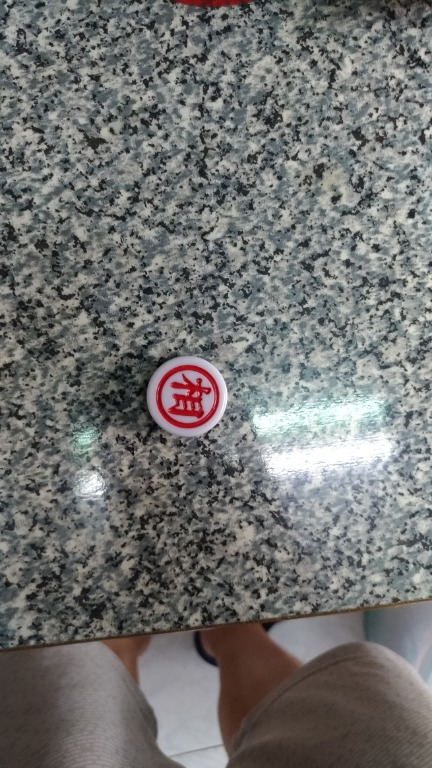r-elephant: (129, 346, 252, 449)
